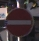No entry: (5, 6, 34, 35)
